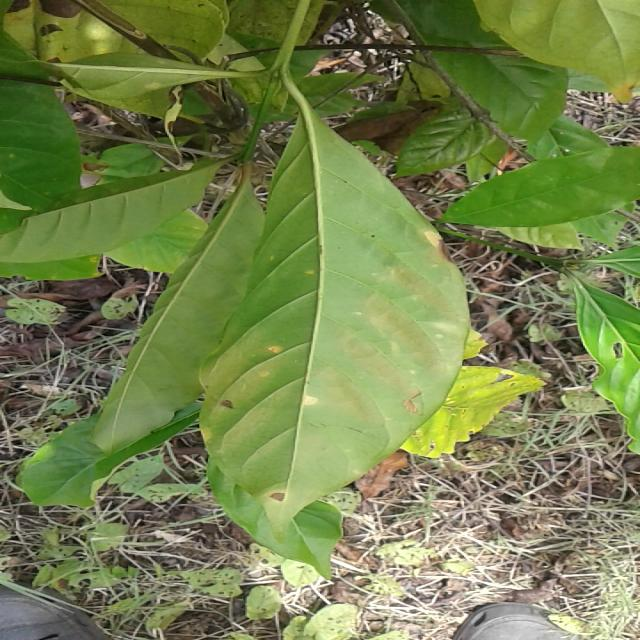Enfermedad-Roya: (200, 113, 463, 535)
